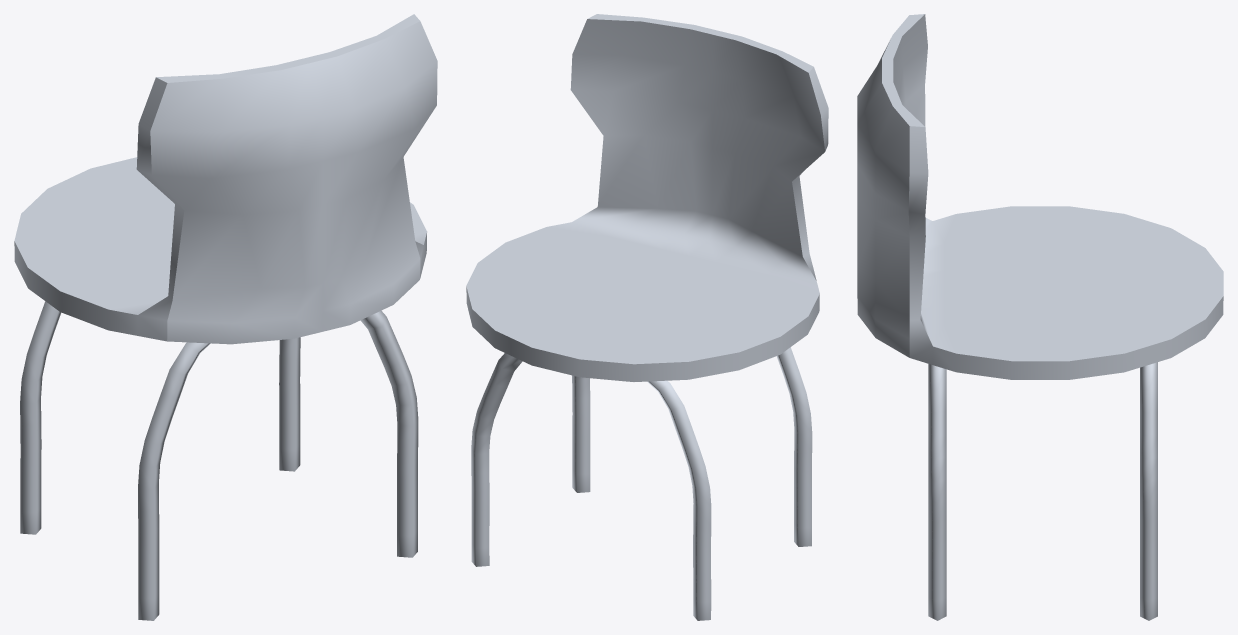
Rendered from BgMD_Chair_pattern2_white.fbx.
3 renders of one model, left to right at view 1: azimuth 30°, elevation 25°; view 2: azimuth 150°, elevation 25°; view 3: azimuth 270°, elevation 25°, orthographic. The views are drawn at different scales.
Parts seen in each view (by area): view 1: BgMD_Chair_pattern2_Color3; view 2: BgMD_Chair_pattern2_Color3; view 3: BgMD_Chair_pattern2_Color3.
Boxes of the visible parts, left/top/right/bottom form: BgMD_Chair_pattern2_Color3: left=14, top=14, right=437, bottom=620; BgMD_Chair_pattern2_Color3: left=466, top=14, right=828, bottom=620; BgMD_Chair_pattern2_Color3: left=857, top=14, right=1223, bottom=620.
Bounding box in the file's own units: 52.39 × 77.13 × 52.34.
